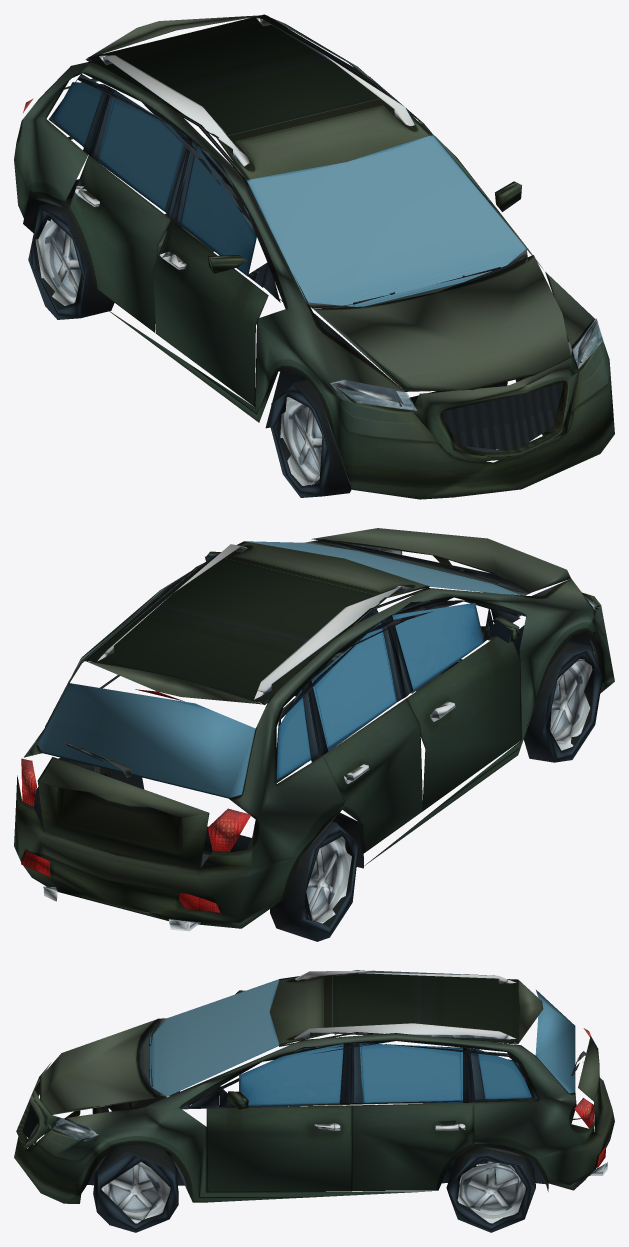
Rendered from suv_lo.glb.
3 views of the same model, one above another, from view 1: azimuth 30°, elevation 25°; view 2: azimuth 150°, elevation 25°; view 3: azimuth 270°, elevation 25° (orthographic). The views are drawn at different scales.
Visible parts, largest first — view 1: suv.2, suv_glass.3; view 2: suv.2; view 3: suv.2.
Boxes of the visible parts, left/top/right/bottom form: suv.2: left=14, top=14, right=614, bottom=499; suv_glass.3: left=331, top=319, right=602, bottom=410; suv.2: left=14, top=528, right=614, bottom=941; suv.2: left=14, top=970, right=614, bottom=1232.
Size of the model in its own units: 0.435 by 0.3439 by 1.
Materials: 2 (2 with a texture image).
